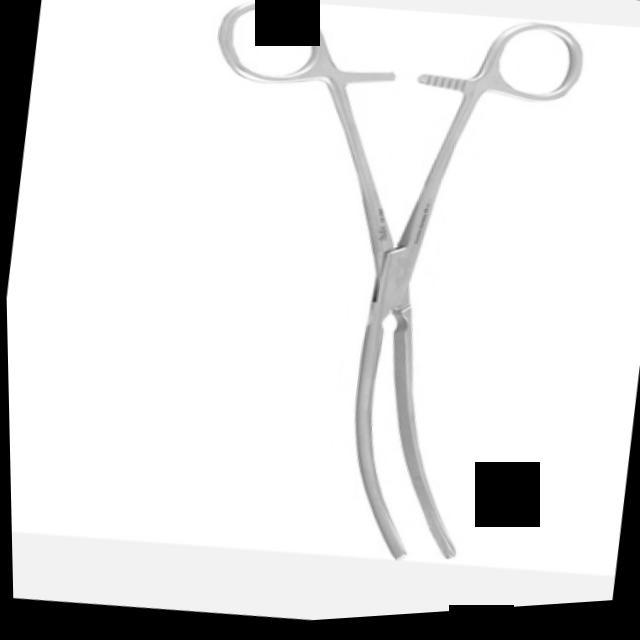Doyel Instestinal Forceps: (144, 0, 594, 594)
